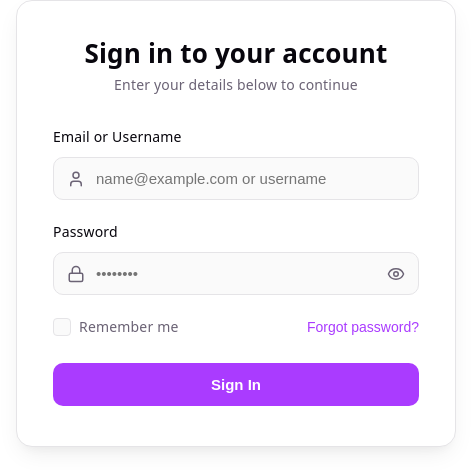
LoginForm Component › handles remember me checkbox toggle
The image size is (473, 470).
Click the checkbox labelled "Remember me". click: (116, 327)
box: [53,315,179,339]
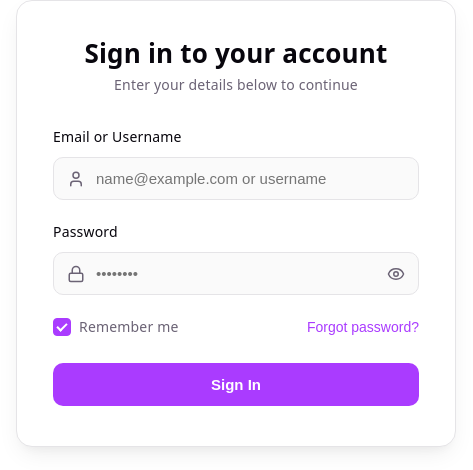
Check: the checkbox labelled "Remember me" is checked, box [53,315,179,339]
